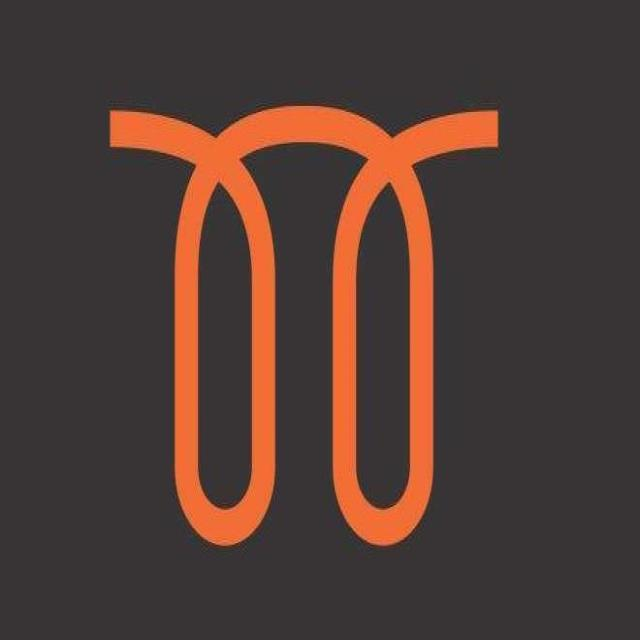kontrolka: (82, 38, 547, 576)
